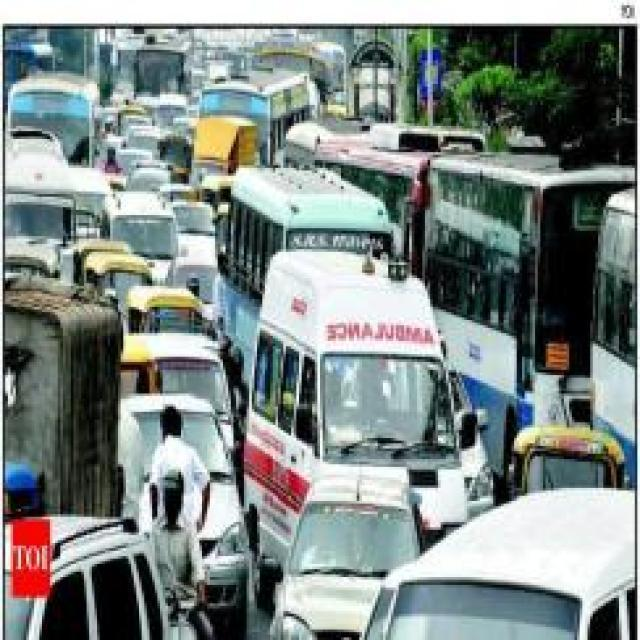Ambulance: (0, 33, 637, 637), (280, 115, 638, 496), (236, 245, 493, 580), (340, 482, 638, 638), (0, 508, 220, 637), (136, 401, 212, 619)
